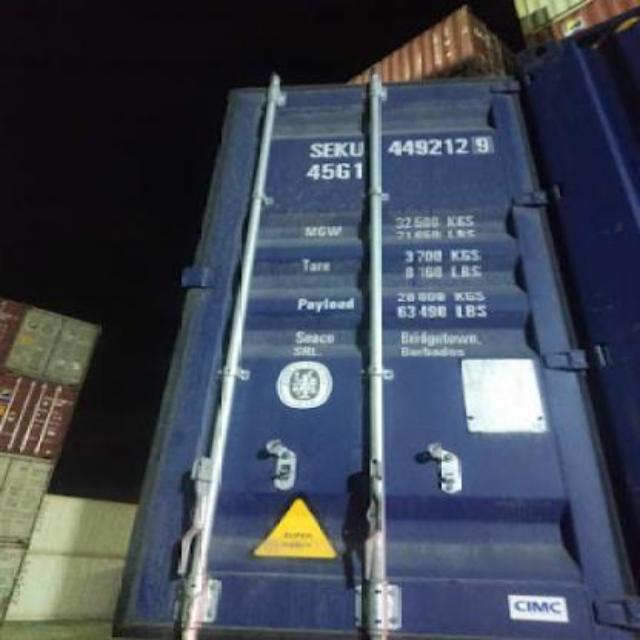1: (442, 128, 456, 160)
2: (456, 127, 468, 163), (428, 130, 442, 160)
4: (386, 132, 402, 158), (404, 132, 416, 160)
9: (471, 129, 492, 153), (412, 129, 428, 159)
E: (322, 134, 334, 162)
K: (334, 134, 348, 162)
S: (304, 136, 322, 158)
U: (346, 128, 364, 162)
